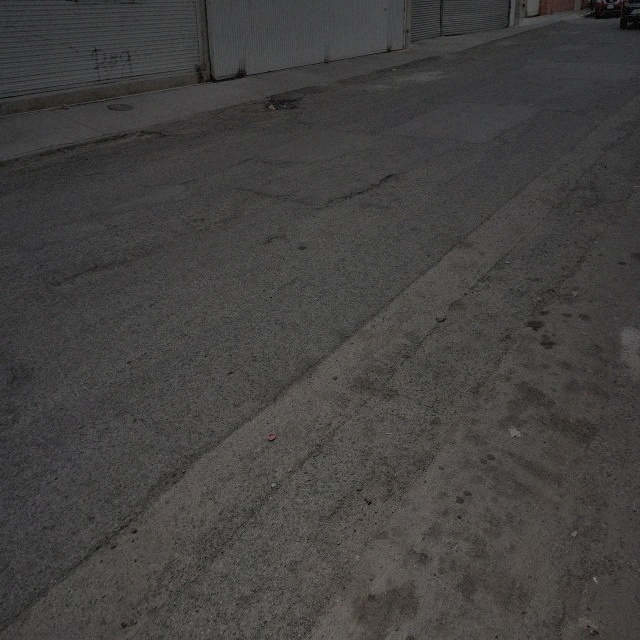pothole: (65, 254, 123, 289), (94, 124, 164, 149), (357, 172, 397, 201), (267, 95, 297, 112)
